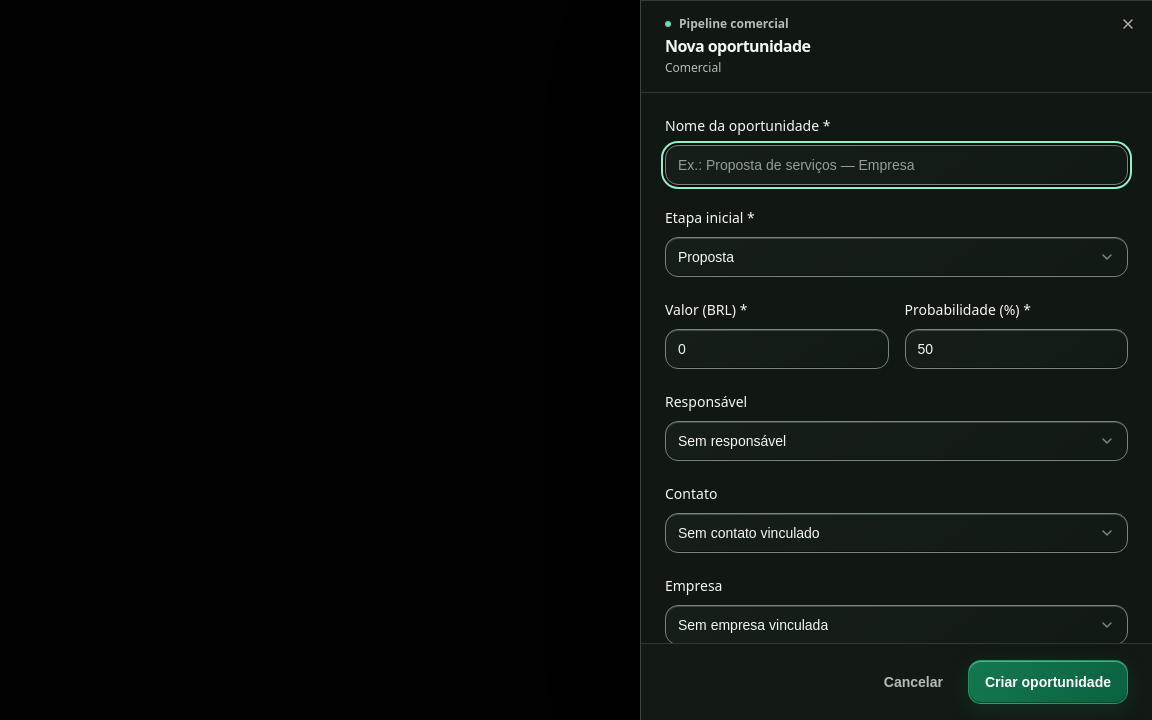
formulário de oportunidade › preserva os campos em falha de gravação e permite tentar novamente
Later steps or results of the test are not shown.
In the field labelled "Nome da oportunidade *": {"x": 896, "y": 165} [665,145,1128,185], type "Contrato anual"
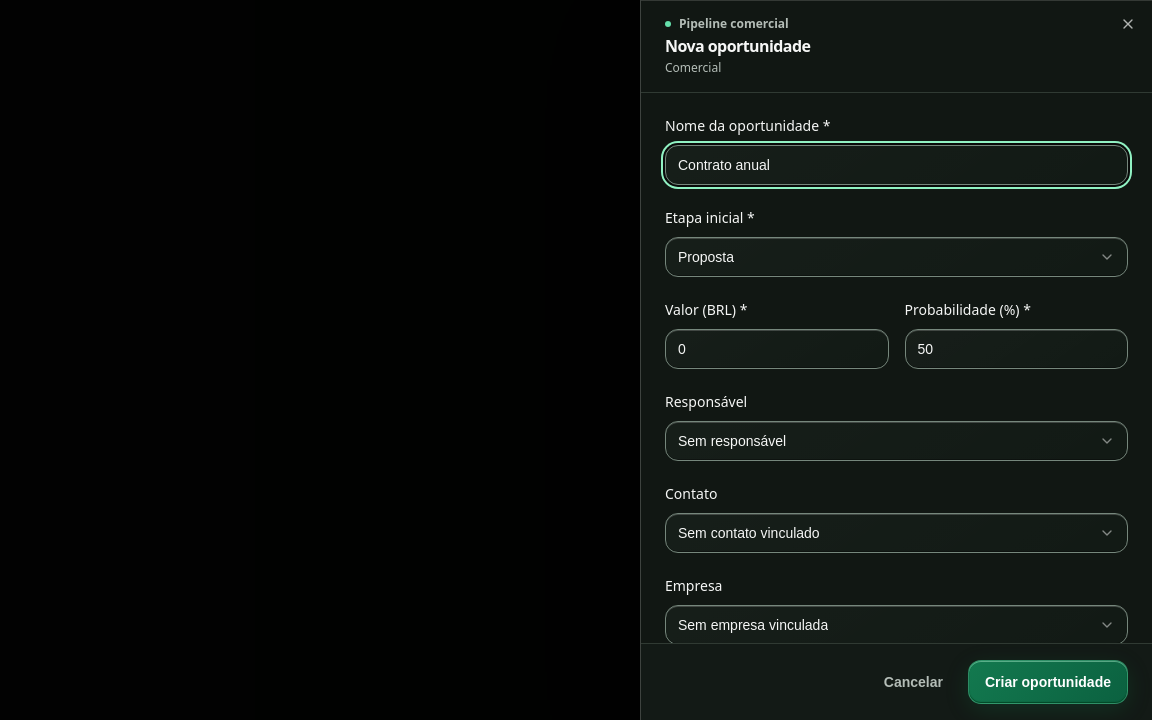
Replace the text in the field labelled "Valor (BRL) *" with "1250,50": {"x": 777, "y": 349} [665,329,888,369]
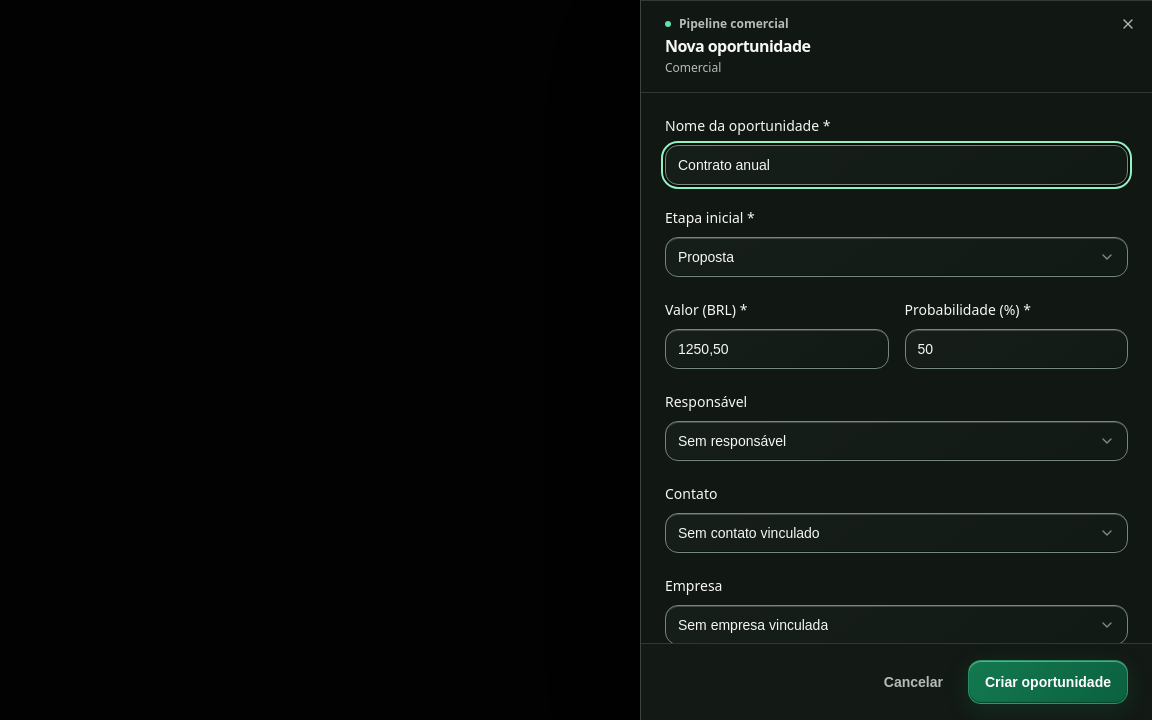
Click the button "Criar oportunidade": {"x": 1048, "y": 682} [968,660,1128,704]
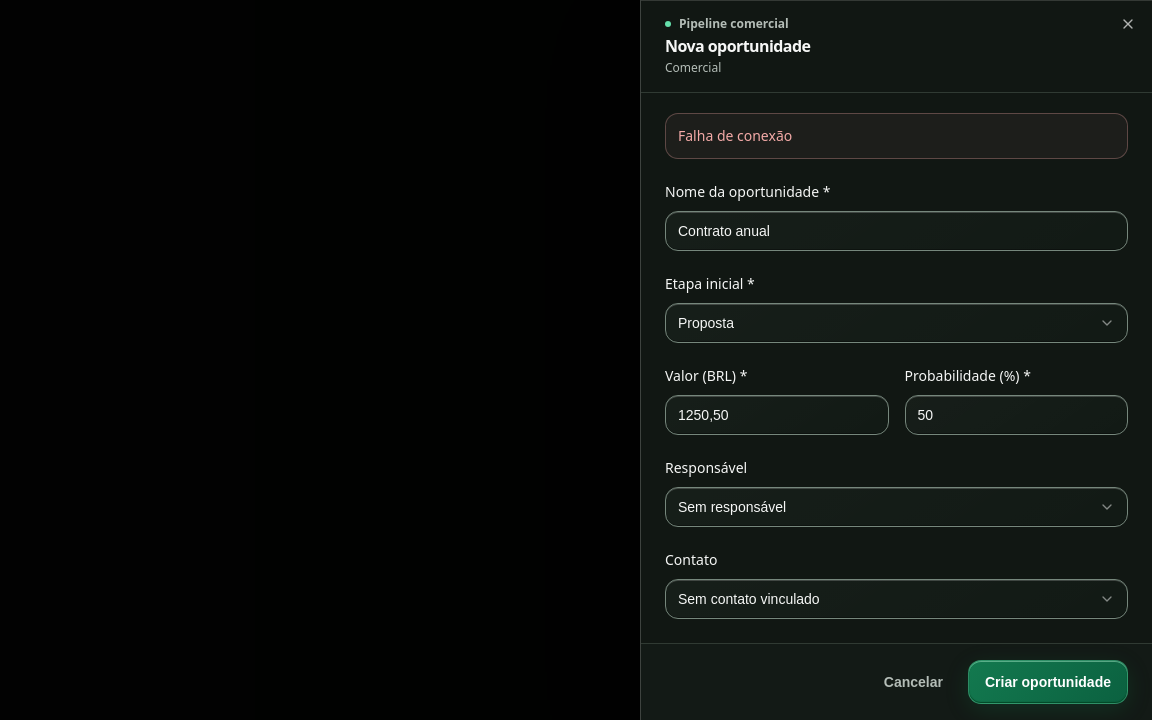
Check: the text "Falha de conexão" is shown, box [665,113,1128,159]
